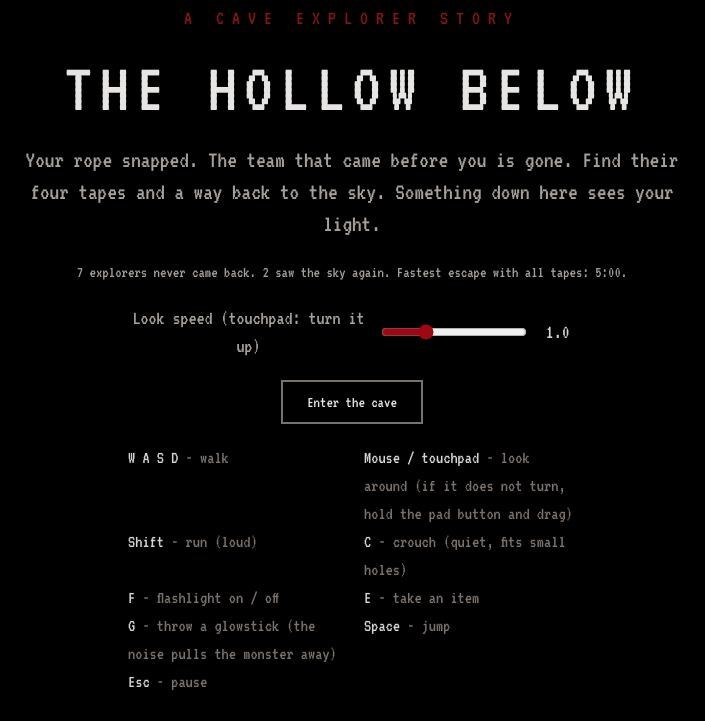
GamePage › saves a finished run and offers to try again after death
This screenshot has width=705, height=721.
Later steps or results of the test are not shown.
Click the button "Enter the cave" at [352, 402], box x1=281 y1=380 x2=423 y2=424
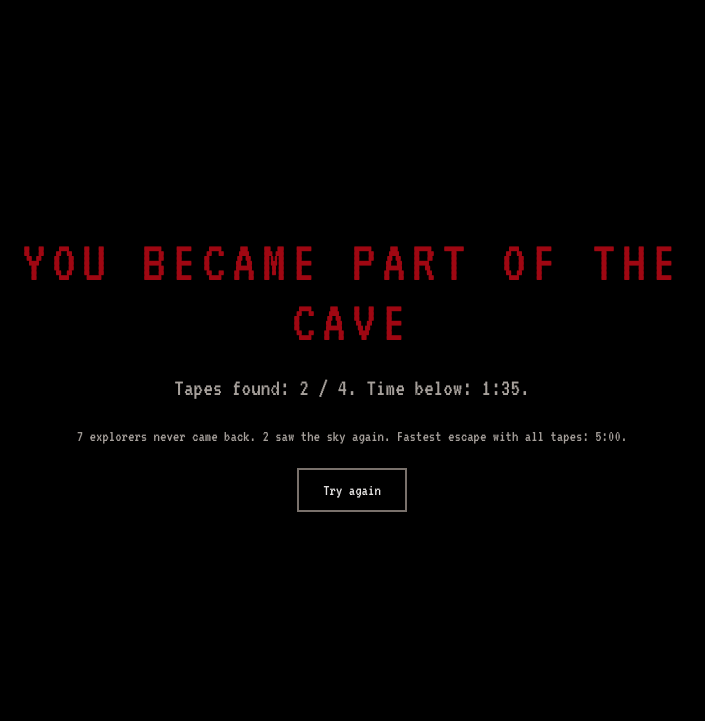
Result: the heading "YOU BECAME PART OF THE CAVE" is shown at x1=16 y1=232 x2=688 y2=352
Result: the text "Tapes found: 2 / 4. Time below: 1:35." is shown at x1=174 y1=376 x2=530 y2=400
